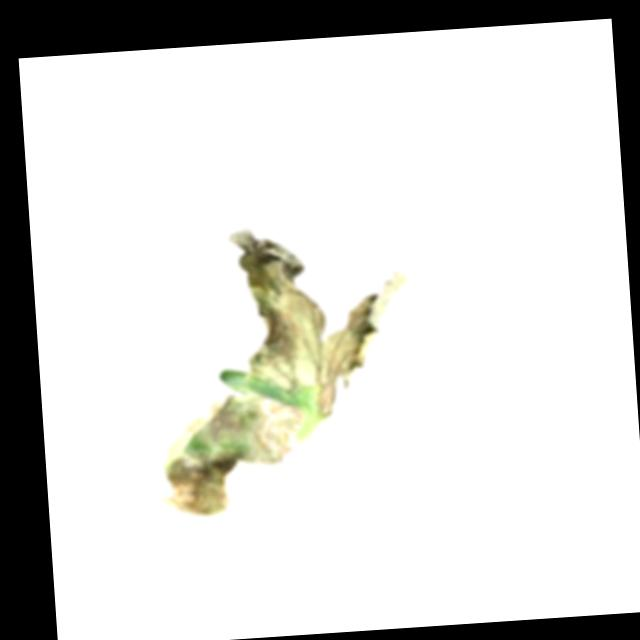Late_blight: (224, 215, 416, 424), (154, 391, 309, 521)
